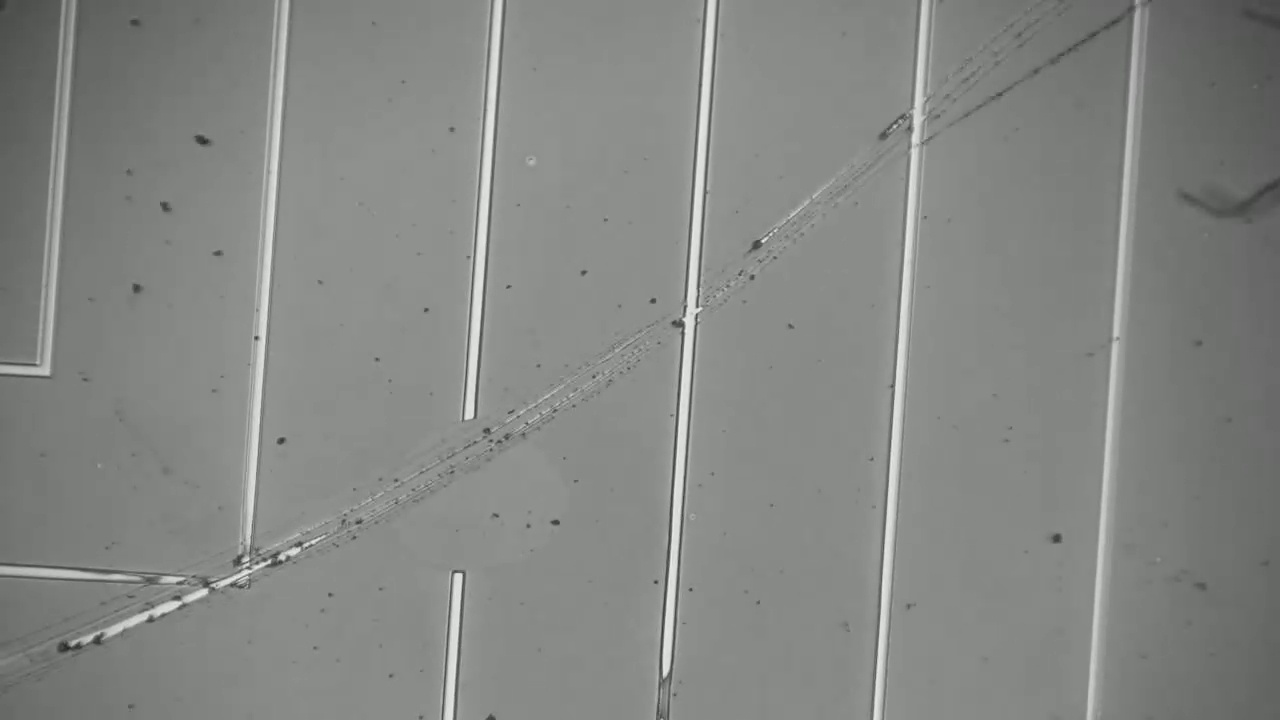gray_line: (646, 642, 685, 720)
open: (404, 364, 511, 604)
scratch: (274, 14, 1032, 561), (0, 582, 226, 704)
